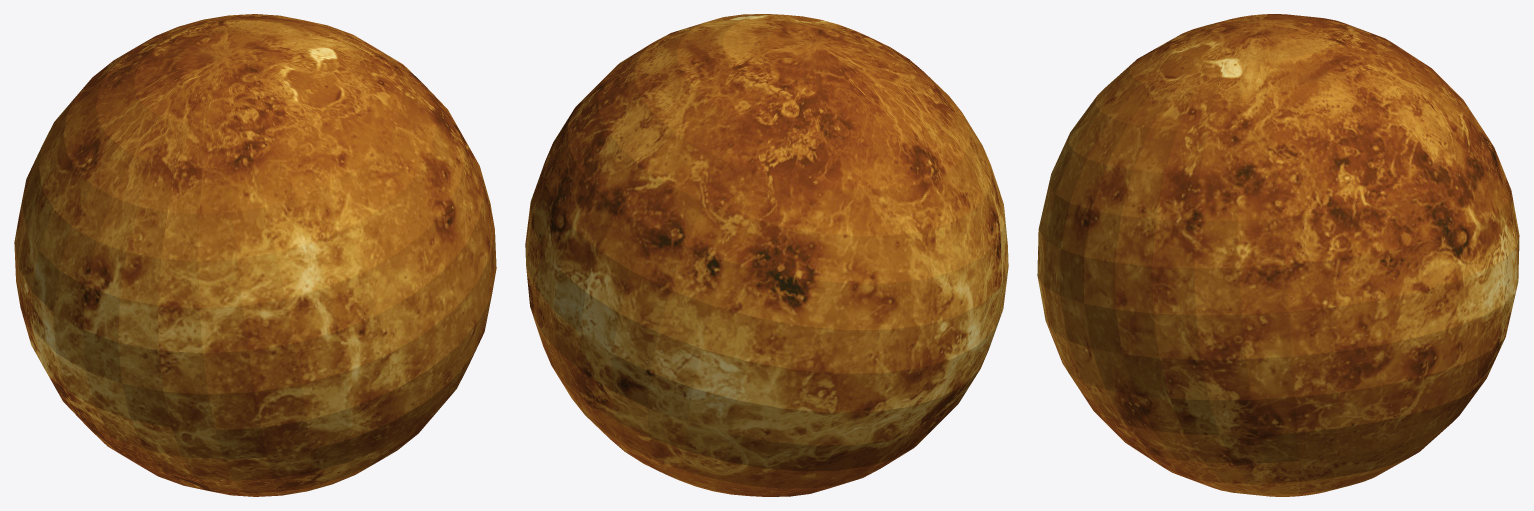
Rendered from Venusobj.obj.
The picture shows the model from 3 angles, left to right: view 1: azimuth 30°, elevation 25°; view 2: azimuth 150°, elevation 25°; view 3: azimuth 270°, elevation 25°; orthographic projection.
Visible parts, largest first — view 1: Sphere; view 2: Sphere; view 3: Sphere.
Part boxes in pixels (left/top/right/bottom): Sphere: left=14, top=14, right=496, bottom=496; Sphere: left=525, top=14, right=1008, bottom=496; Sphere: left=1037, top=14, right=1519, bottom=496.
Bounding box in the file's own units: 2 × 2 × 1.99.
